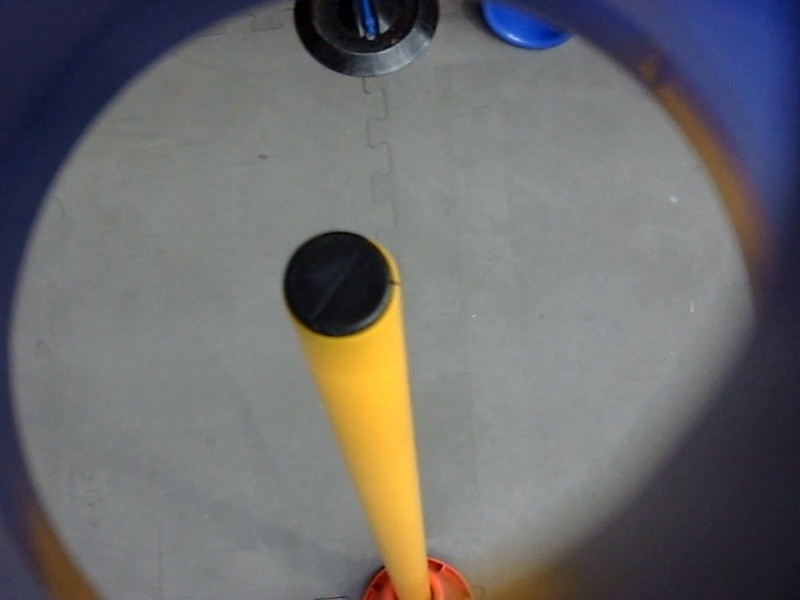tip: (272, 223, 406, 351)
